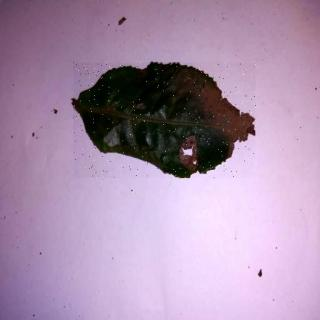Anthracnose: (74, 64, 257, 179)
